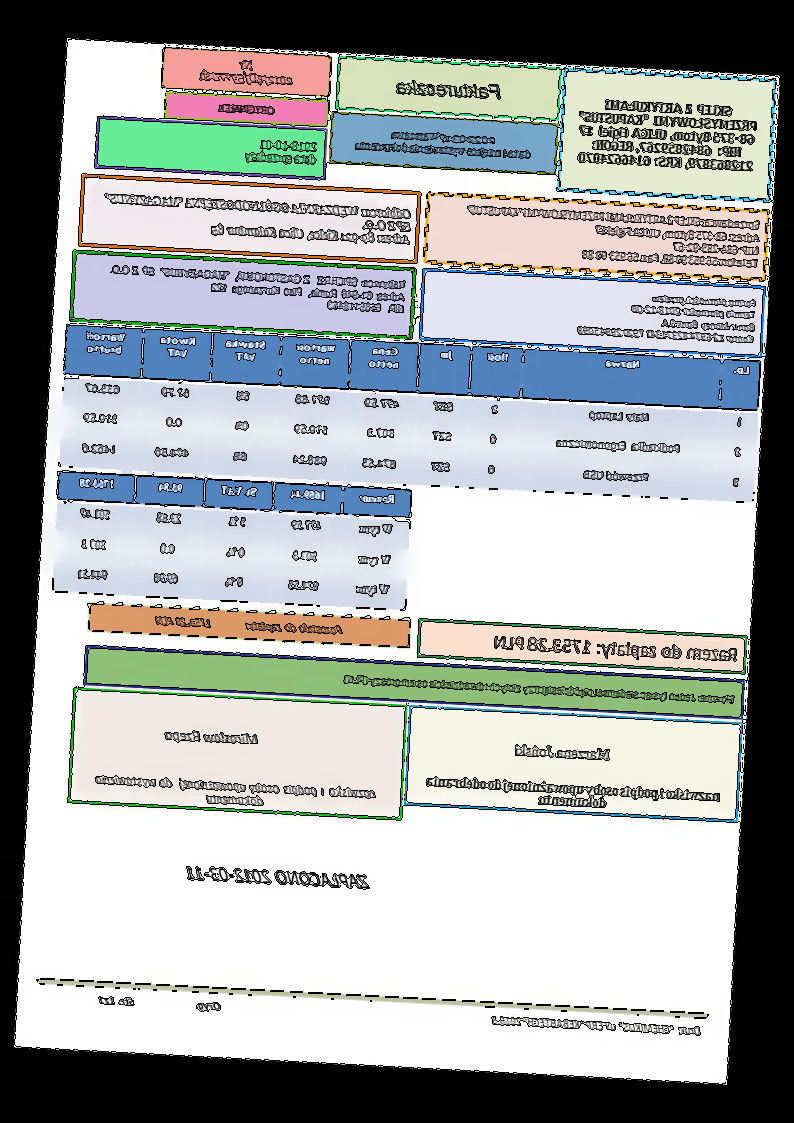Table: (57, 322, 763, 505), (50, 468, 414, 609)
TextBox: (464, 200, 764, 272), (101, 188, 414, 249), (107, 261, 407, 316), (575, 93, 762, 175), (340, 671, 739, 709), (423, 772, 723, 817), (93, 770, 379, 814), (575, 287, 759, 346), (492, 630, 742, 666), (353, 124, 535, 163), (181, 859, 373, 893), (487, 1011, 704, 1039), (152, 611, 347, 639), (394, 74, 505, 105), (198, 55, 296, 90), (96, 992, 224, 1014), (513, 738, 615, 764), (245, 134, 320, 168), (162, 724, 261, 749), (219, 99, 278, 118)
